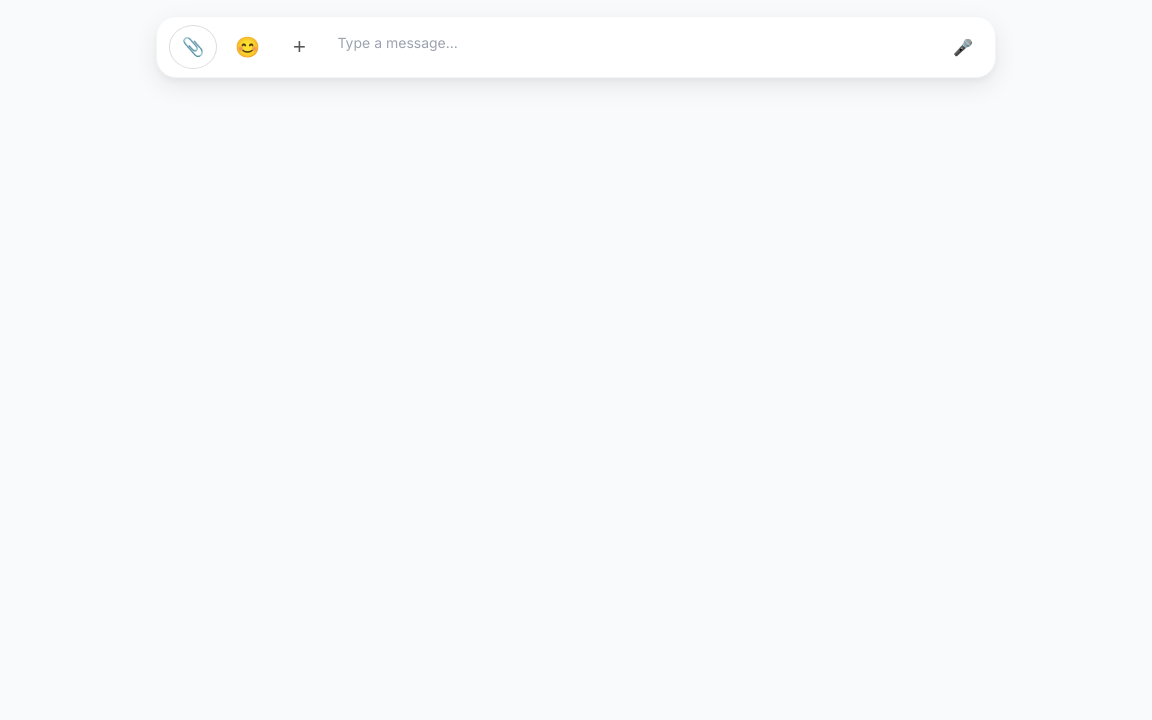
MessageInput Component › enables send button when text is entered
This screenshot has width=1152, height=720.
Type "Hello world" into the text box with placeholder "Type a message...". click: (632, 47)
box: [330,25,935,69]
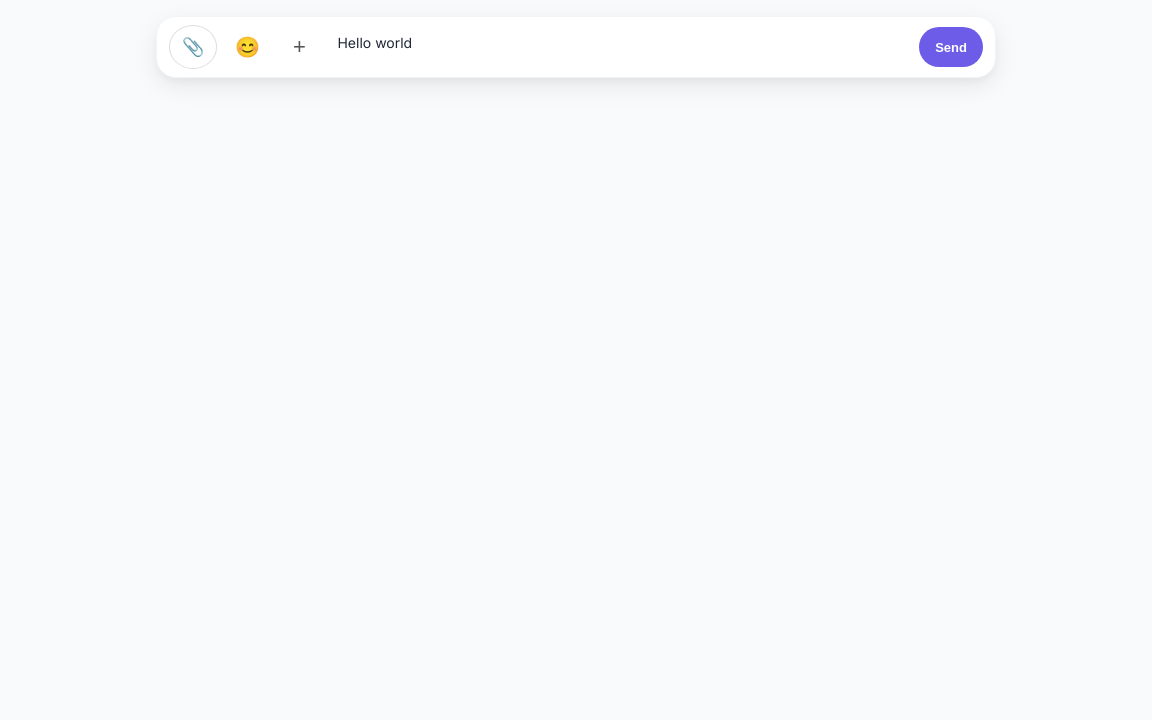
Expected: the button "Send" is enabled, [919,27,983,67]
